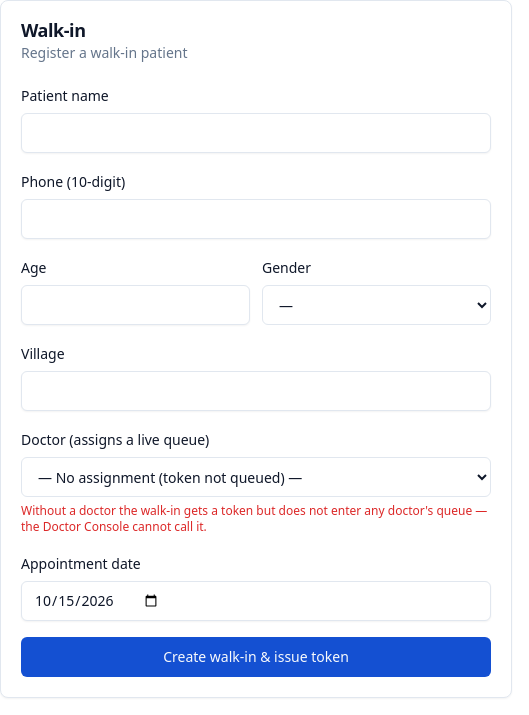
Scenario: BookingForm confirmation › confirms a queued booking from the live response without navigating away
In the field labelled "Patient name": (256, 133) [21,113,491,153], type "Ramesh K"
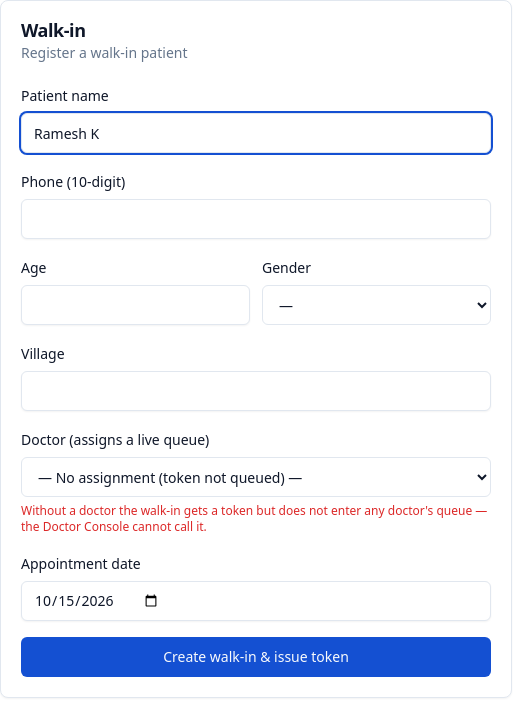
In the field labelled "Phone (10-digit)": (256, 219) [21,199,491,239], type "9876543210"
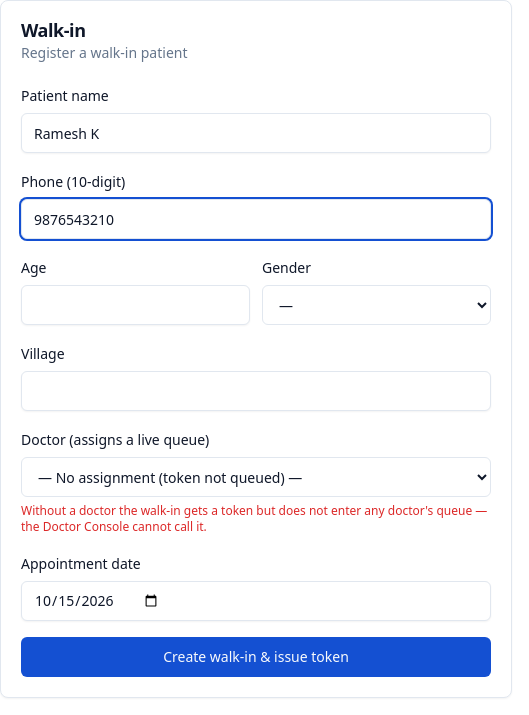
Select "Anitha Rao · Cardiology" in the dropdown labelled "Doctor (assigns a live queue)": (256, 477) [21,457,491,497]
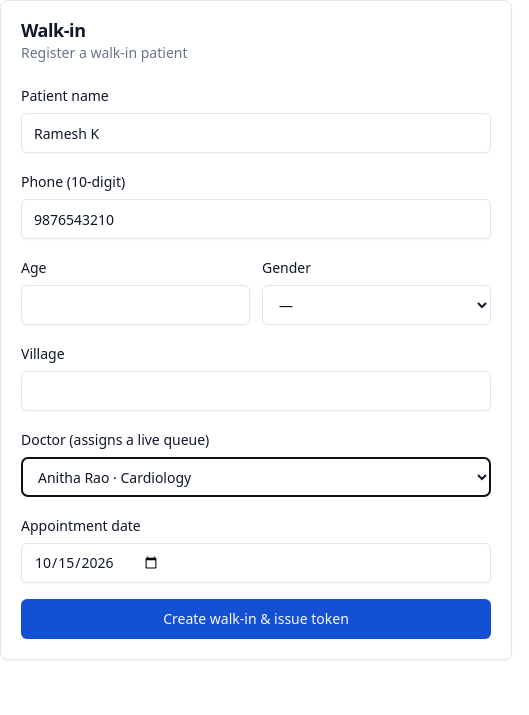
Click the button "Create walk-in & issue token": (256, 619) [21,599,491,639]
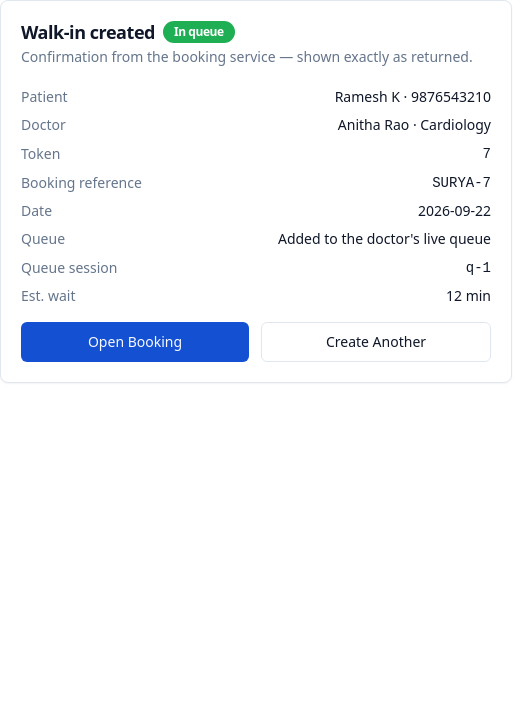
Now the heading "Walk-in created In queue" is shown, box [21,20,235,44]
Now the text "In queue" is shown, box [163,21,235,43]
Now the text "Anitha Rao · Cardiology" is shown, box [338,115,491,135]
